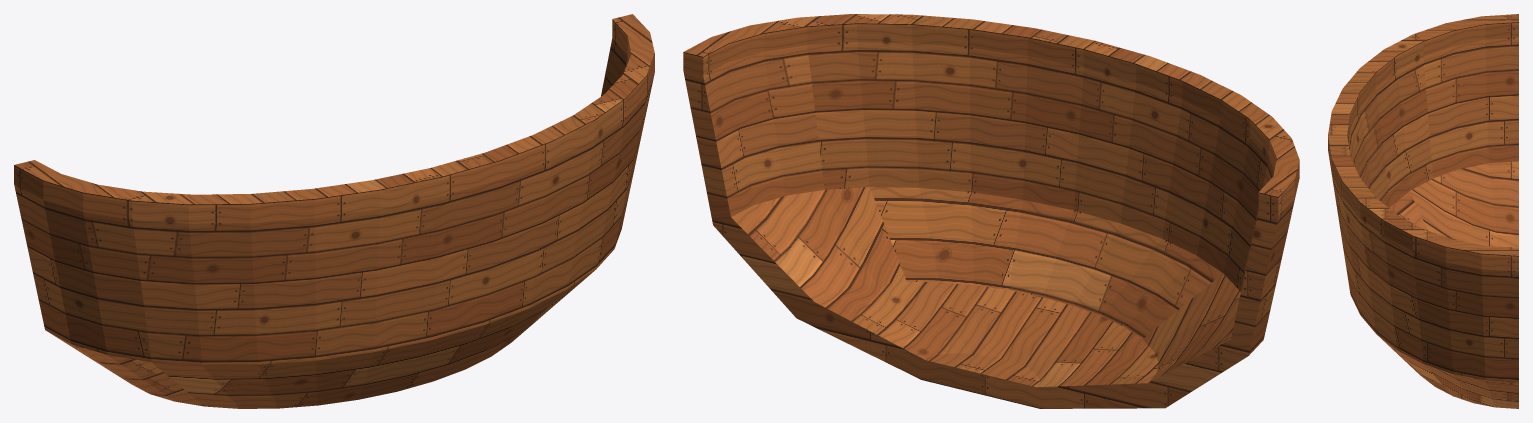
Rendered from BOTTOM_STERN.glb.
The picture shows the model from 3 angles, left to right: view 1: azimuth 30°, elevation 25°; view 2: azimuth 150°, elevation 25°; view 3: azimuth 270°, elevation 25°; orthographic projection. The views are drawn at different scales.
Parts seen in each view (by area): view 1: BOTTOM_STERN; view 2: BOTTOM_STERN; view 3: BOTTOM_STERN.
Part boxes in pixels (bbox=[...]): BOTTOM_STERN: bbox=[14, 14, 654, 408]; BOTTOM_STERN: bbox=[683, 14, 1299, 408]; BOTTOM_STERN: bbox=[1328, 14, 1518, 408].
Bounding box in the file's own units: 6 × 2.6 × 2.
1 material, 1 textured.
